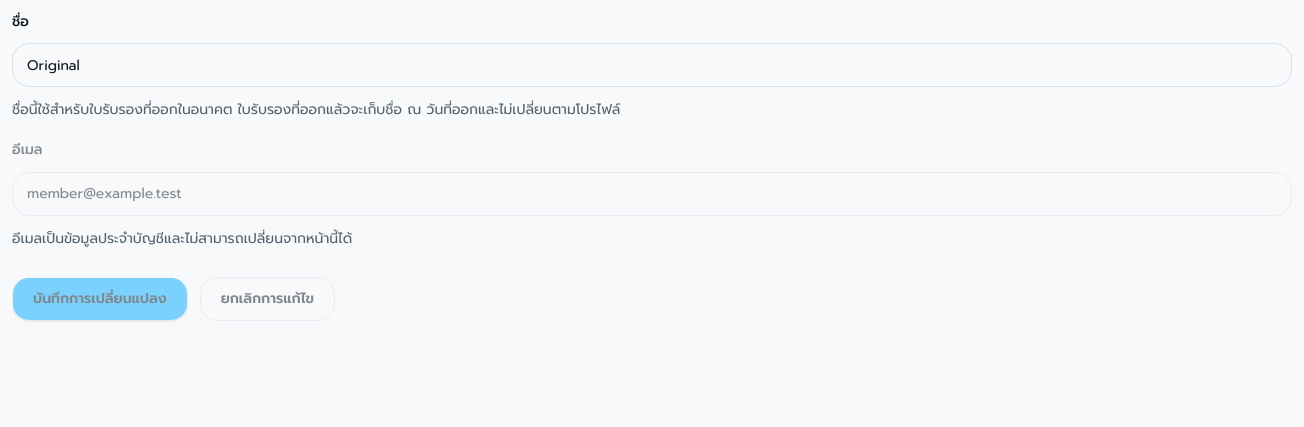
Test: profile editing › retains unsaved changes after HTTP 429 and permits explicit retry
Replace the text in the field labelled "ชื่อ" with "Changed". click: (652, 65)
box: [12,43,1292,87]
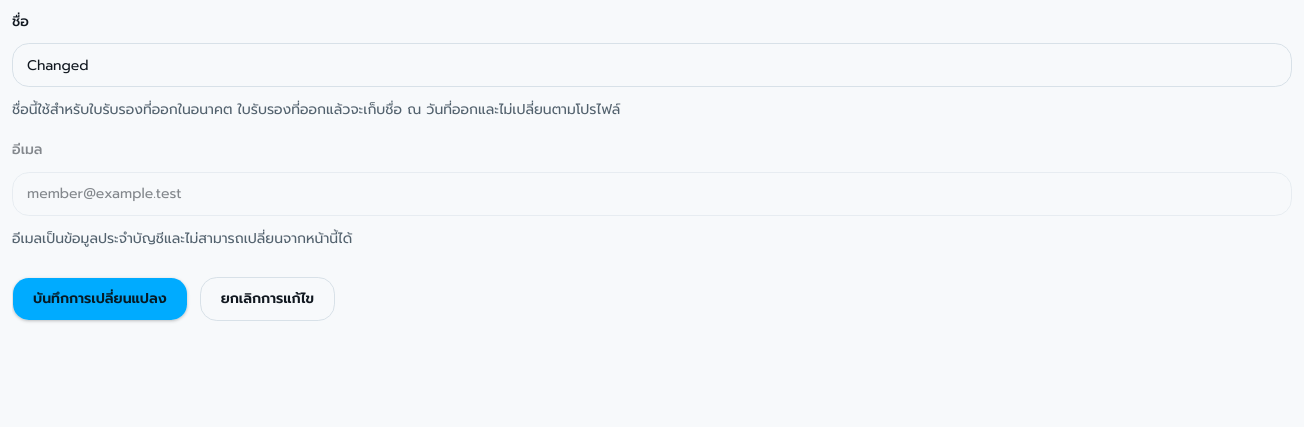
Submit the form labelled "ชื่อ"
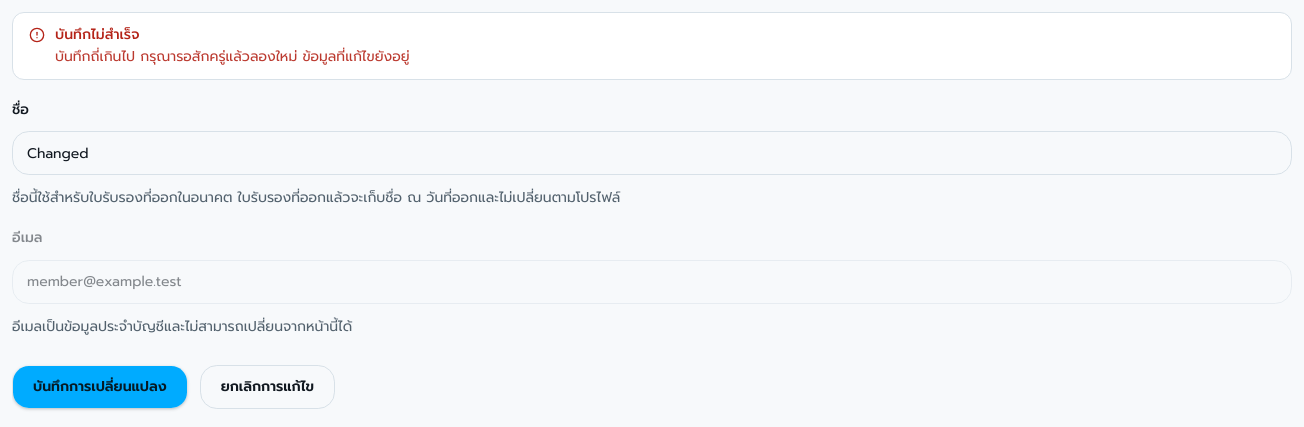
Expected: the button "บันทึกการเปลี่ยนแปลง" is enabled, [12,364,188,408]
Expected: the message is shown, [12,12,1292,80]
